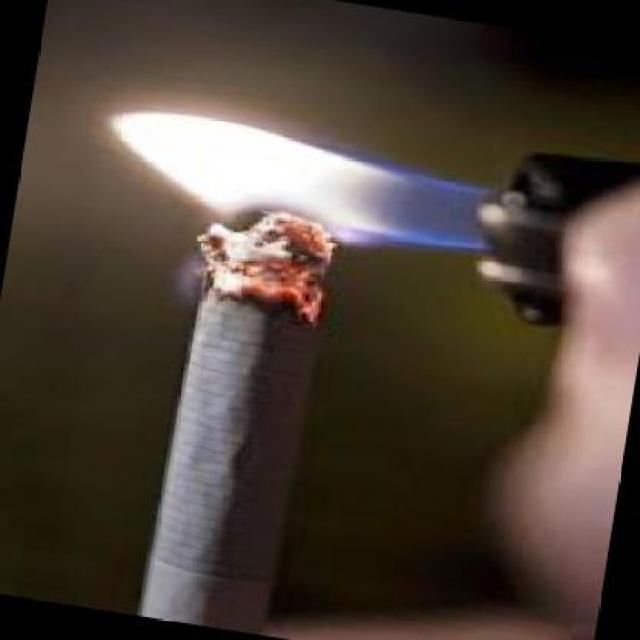Fire: (95, 95, 526, 243)
